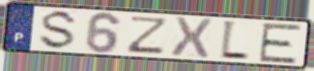6: (83, 11, 122, 55)
E: (257, 22, 304, 65)
L: (218, 19, 251, 63)
S: (37, 9, 81, 52)
X: (169, 15, 214, 59)
Z: (125, 15, 171, 55)
